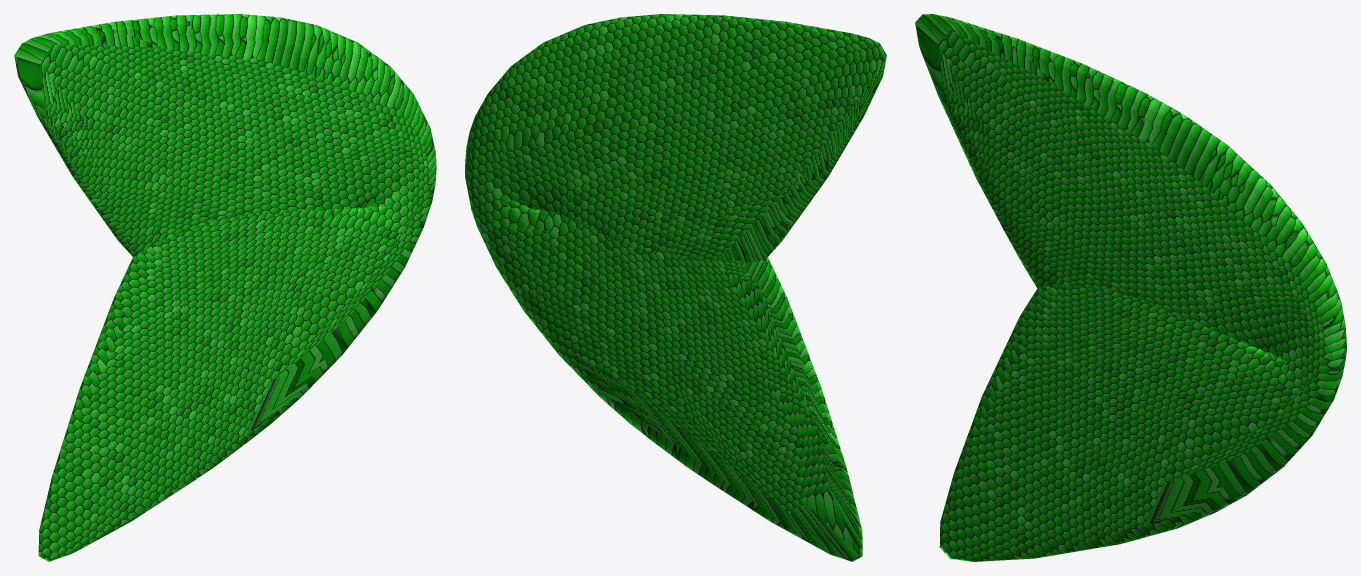
Rendered from Fish5_Tail_new.dae.
3 renders of one model, left to right at view 1: azimuth 30°, elevation 25°; view 2: azimuth 150°, elevation 25°; view 3: azimuth 330°, elevation 25°, orthographic. The views are drawn at different scales.
Parts seen in each view (by area): view 1: Cube_001; view 2: Cube_001; view 3: Cube_001.
Part boxes in pixels (bbox=[...]): Cube_001: bbox=[14, 14, 436, 561]; Cube_001: bbox=[465, 14, 886, 561]; Cube_001: bbox=[915, 14, 1346, 561].
Size of the model in its own units: 4.21 by 0.295 by 5.05.
1 material, 1 textured.
